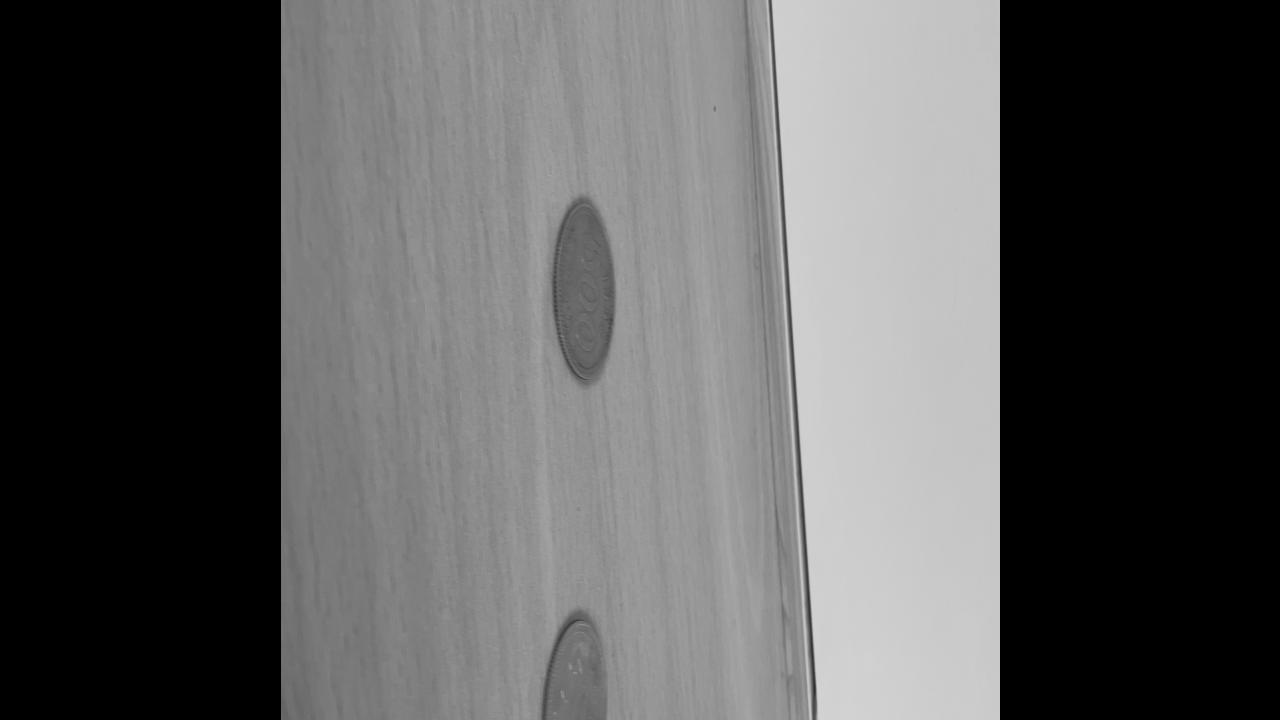coin: (551, 195, 619, 388), (540, 608, 611, 720)
